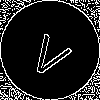V: (25, 25, 78, 81)
